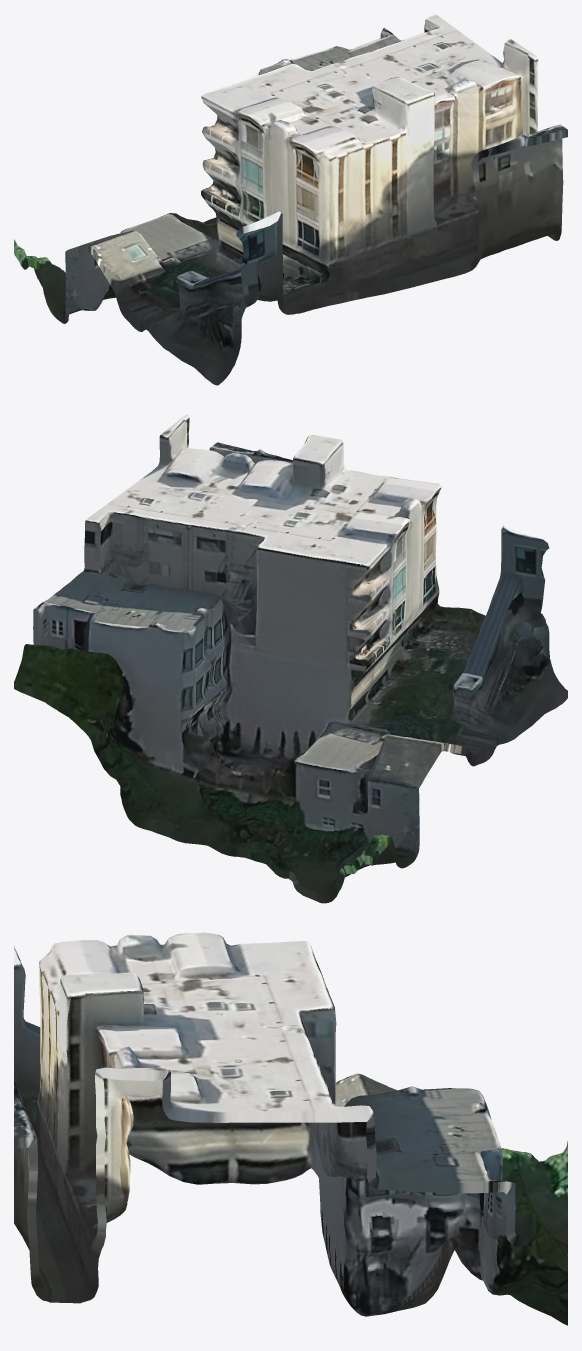
Rendered from z20-167751-405195-h0-yup-uvflip-v3-world.glb.
The picture shows the model from 3 angles, top to bottom: view 1: azimuth 30°, elevation 25°; view 2: azimuth 150°, elevation 25°; view 3: azimuth 270°, elevation 25°; orthographic projection. The views are drawn at different scales.
Bounding box in the file's own units: 30.16 × 23.64 × 30.32.
1 material, 1 textured.
